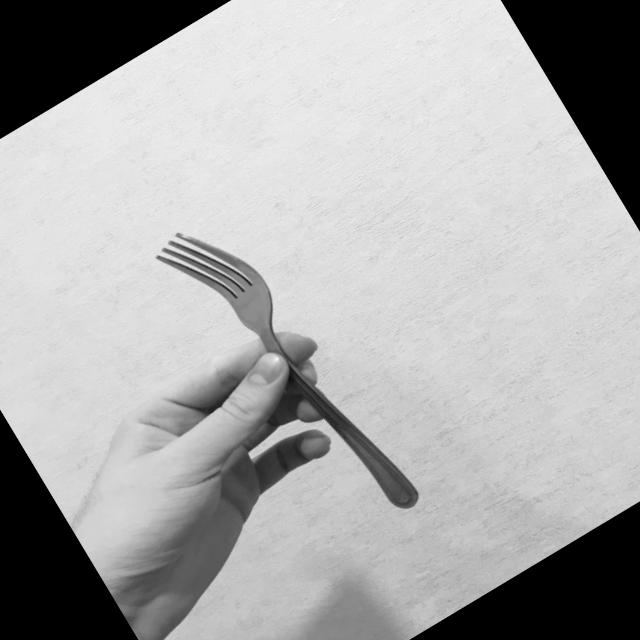fork: (150, 190, 429, 556)
